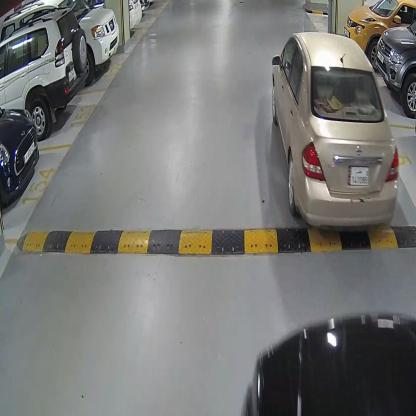np: (349, 164, 368, 189)
